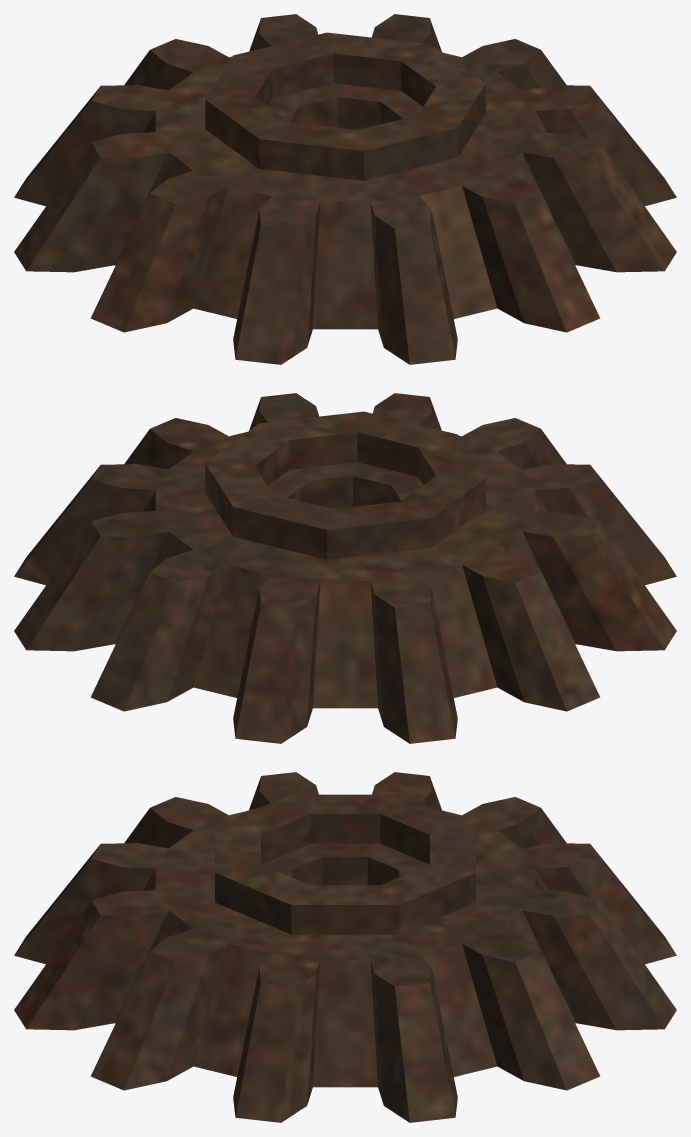
Rendered from gear_mx_2.obj.
3 views of the same model, one above another, from view 1: azimuth 30°, elevation 25°; view 2: azimuth 150°, elevation 25°; view 3: azimuth 270°, elevation 25° (orthographic).
Visible parts, largest first — view 1: gear_mx_2; view 2: gear_mx_2; view 3: gear_mx_2.
Boxes of the visible parts, x1,y1,x2,y2 form: gear_mx_2: (14,14,676,364); gear_mx_2: (14,393,676,743); gear_mx_2: (14,772,676,1122).
Size of the model in its own units: 0.2023 by 0.0574 by 0.2023.
